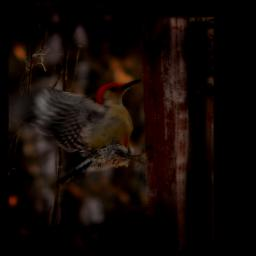Woodpecker: (11, 77, 143, 185)
